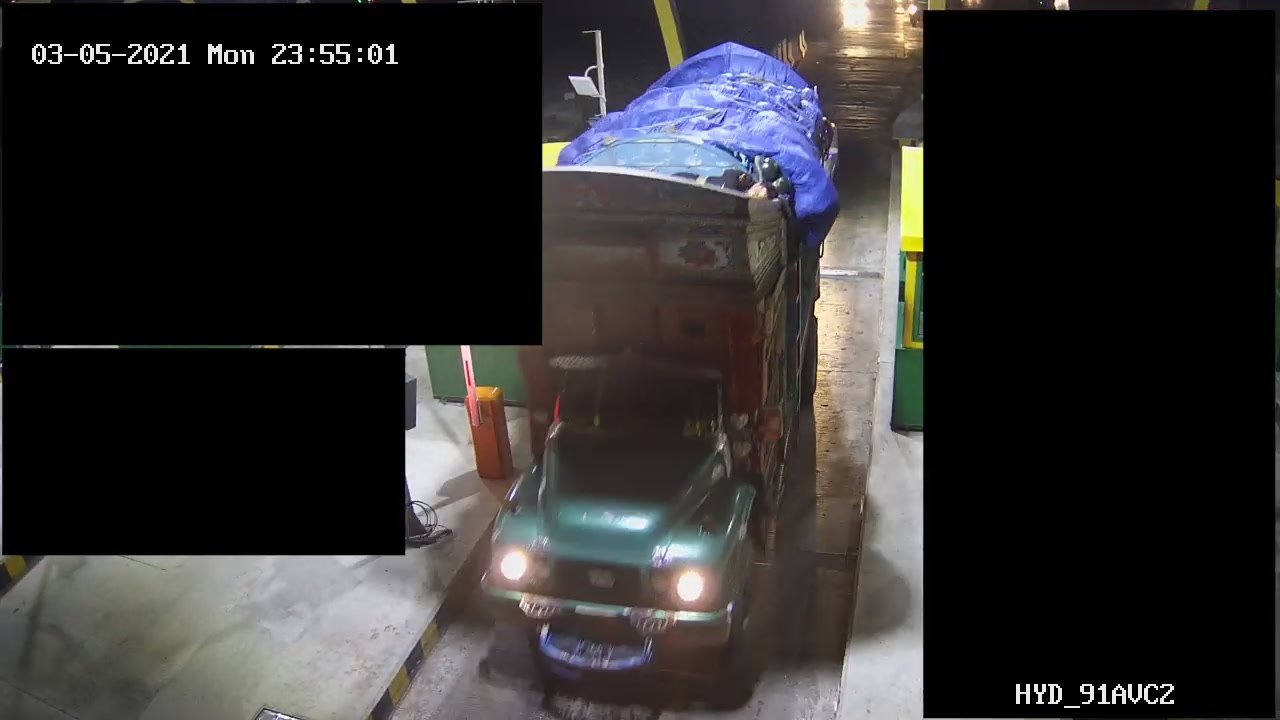F5: (481, 50, 839, 675)
